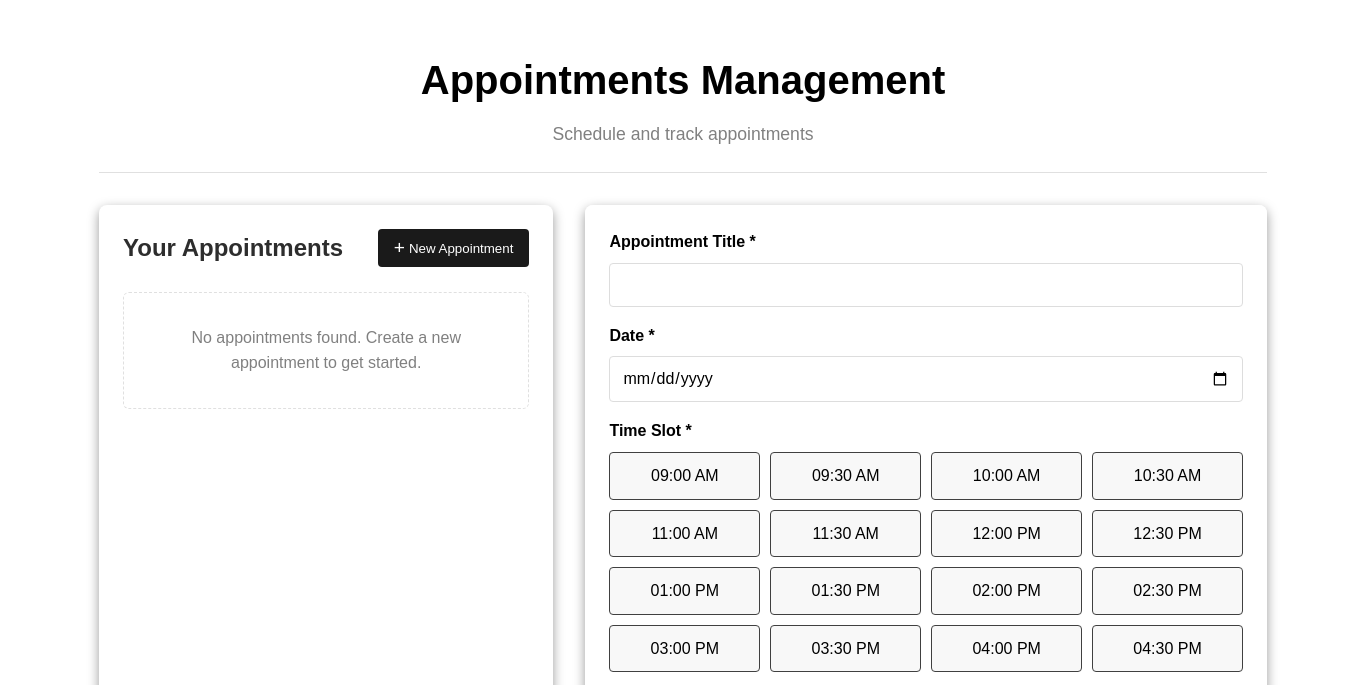
Test: UserAppointments Component › shows error for short description
This screenshot has width=1366, height=685.
Type "Test" into the field labelled "Appointment Title *" at coordinates (926, 285), box top-left (609, 263), bottom-right (1243, 307)
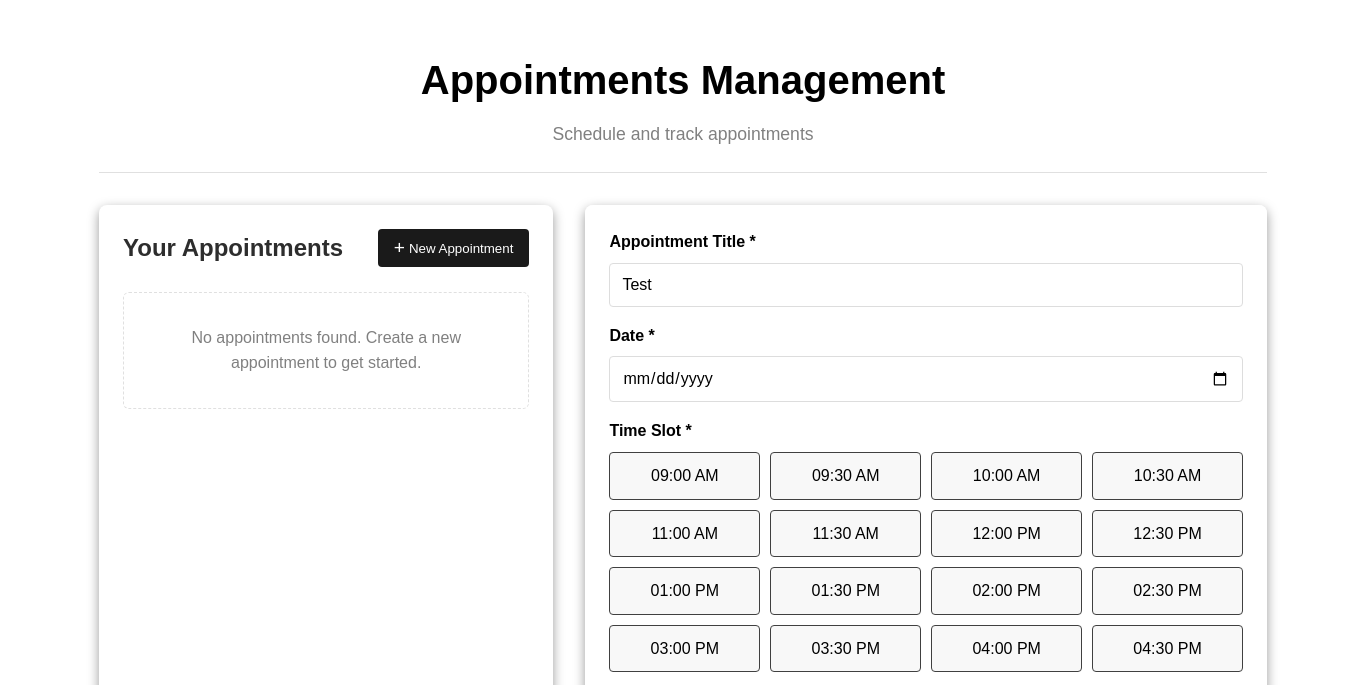
Type "2099-12-31" into the date field labelled "Date *" at coordinates (926, 379), box top-left (609, 356), bottom-right (1243, 402)
(page scrolled)
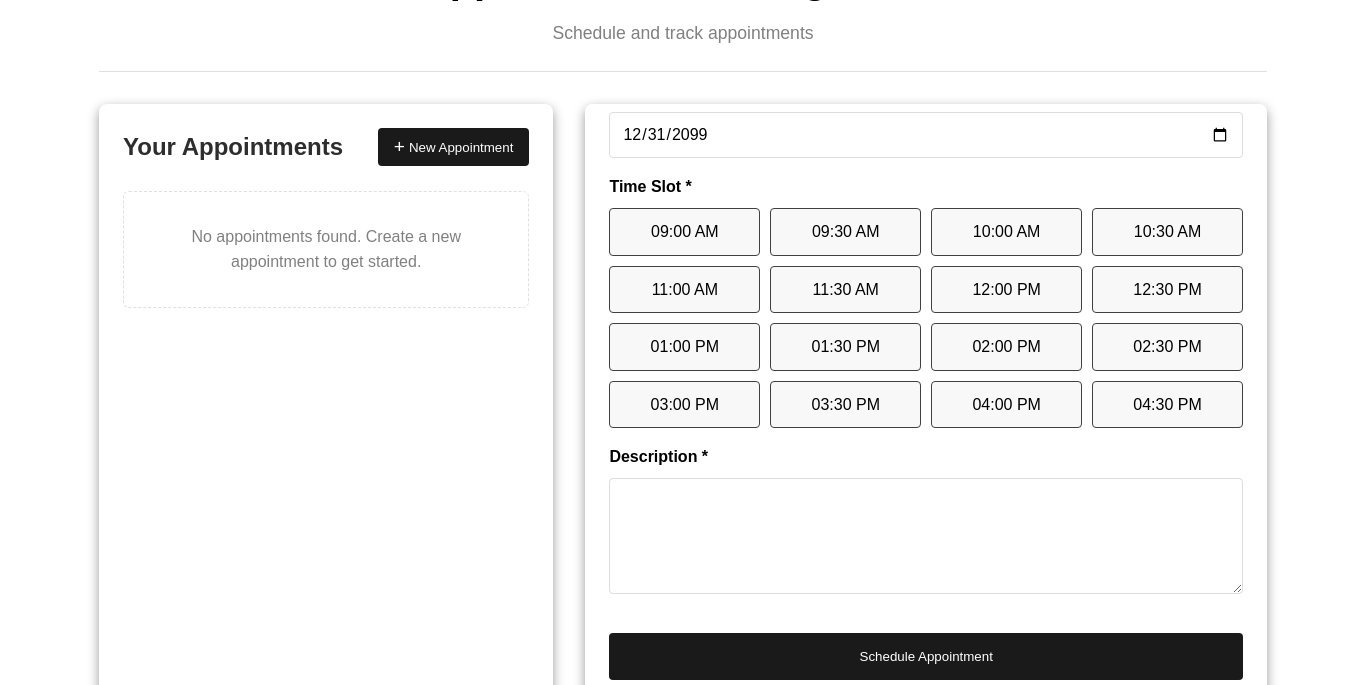
Type "short" into the text box labelled "Description *" at coordinates (926, 536), box top-left (609, 478), bottom-right (1243, 594)
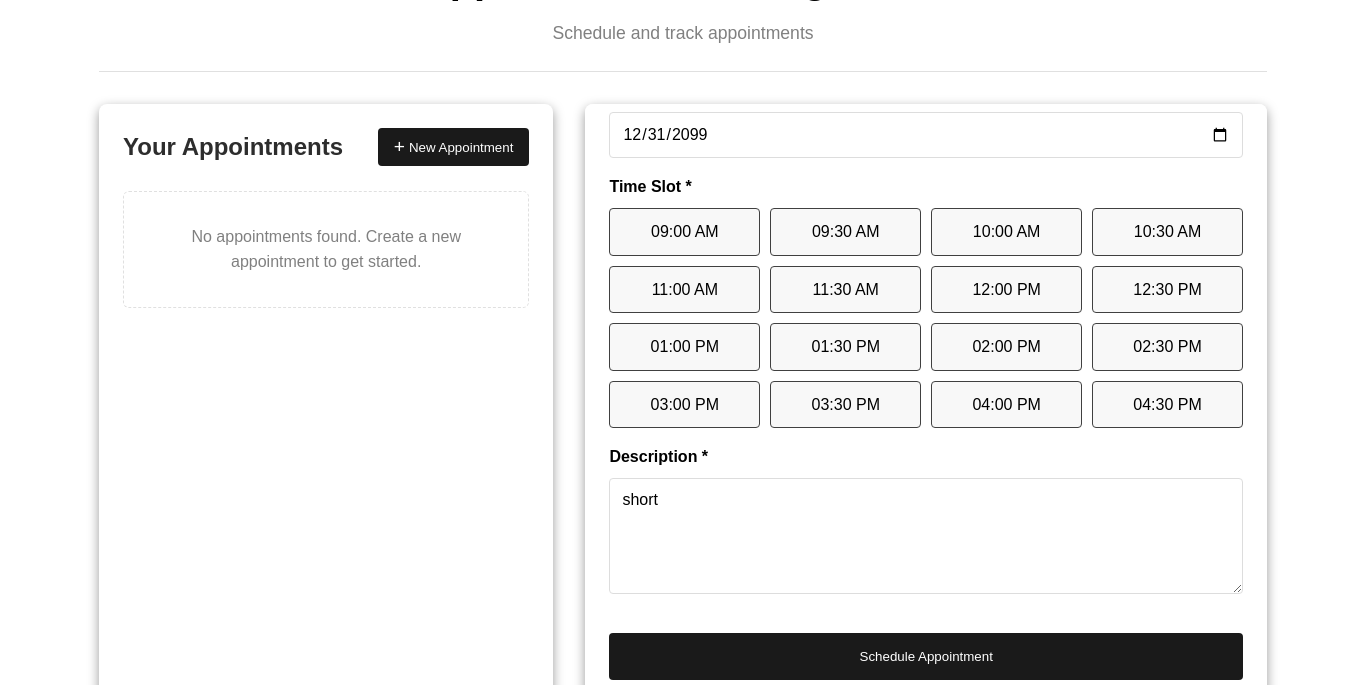
Click the button "Schedule Appointment" at coordinates (926, 657), box top-left (609, 634), bottom-right (1243, 680)
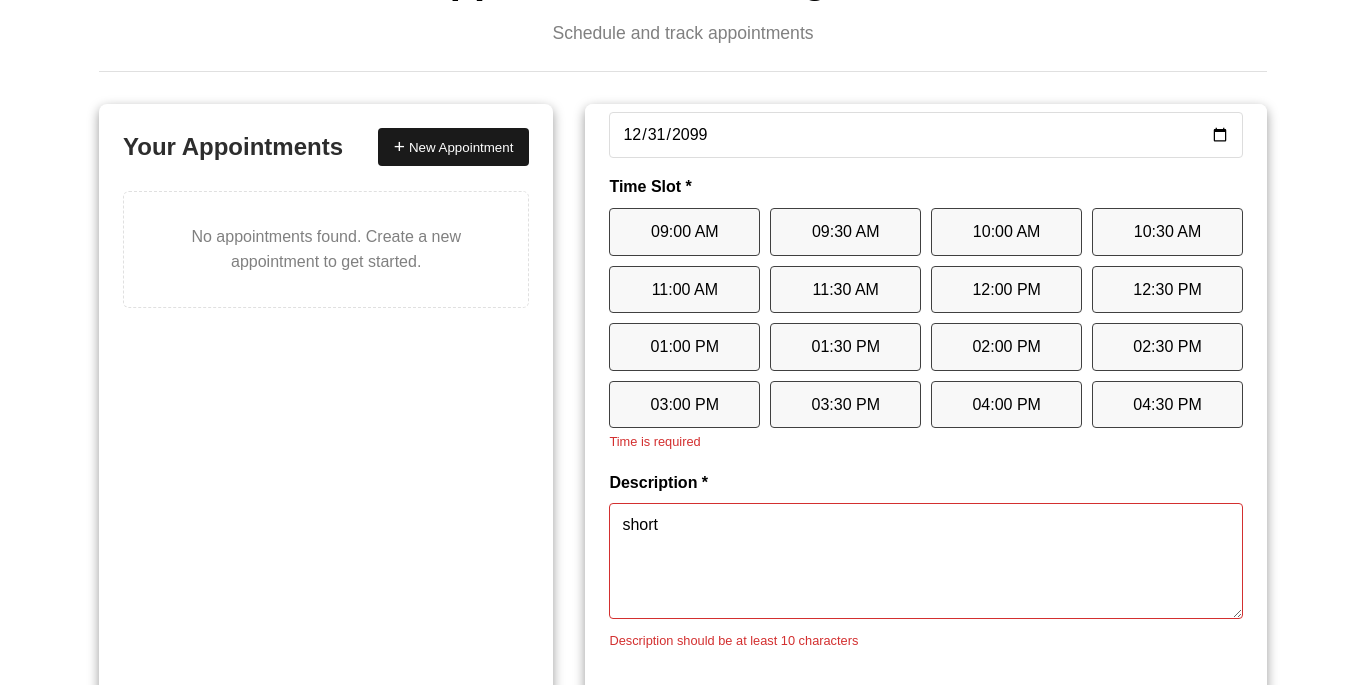
Check: the text "Description should be at least 10 characters" is shown, box top-left (609, 633), bottom-right (858, 648)
